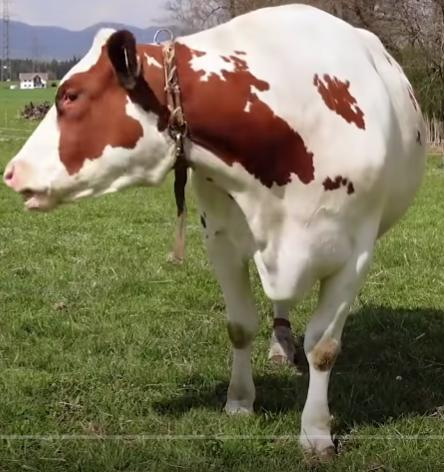cow: (5, 4, 426, 462)
